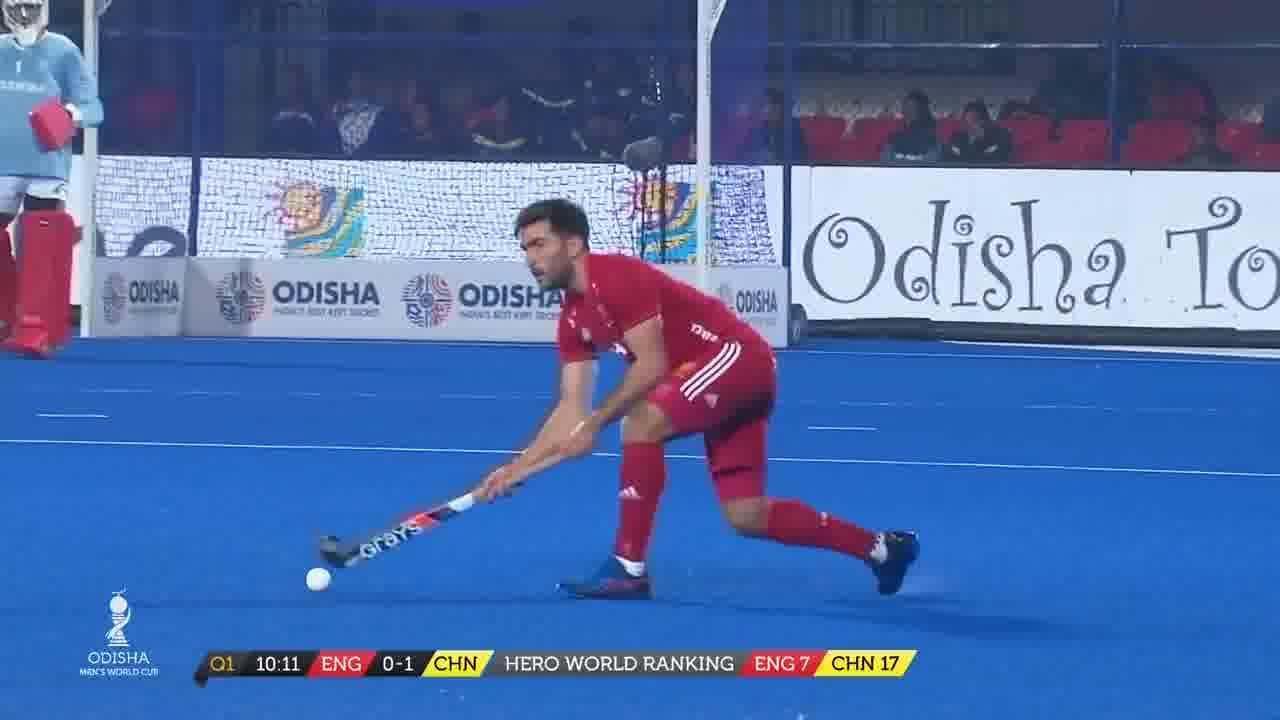ball: (300, 562, 338, 595)
